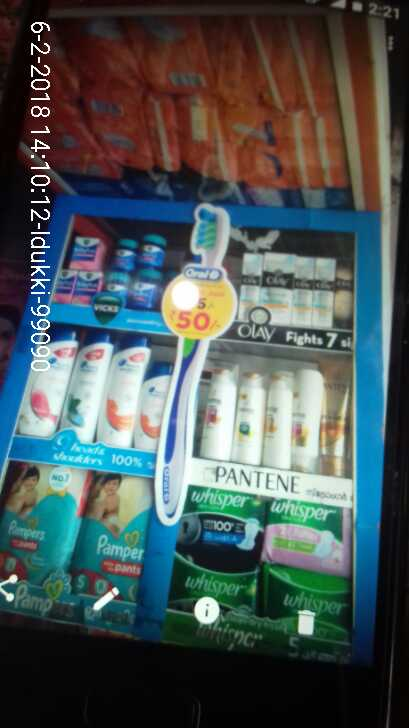vicks: (49, 234, 167, 317)
